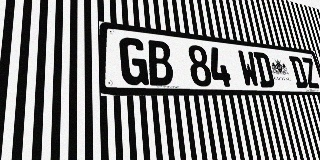4: (207, 46, 232, 87)
8: (187, 44, 213, 86)
B: (146, 40, 174, 86)
D: (253, 52, 275, 88), (289, 56, 309, 88)
G: (119, 36, 149, 85)
W: (237, 50, 260, 87)
Z: (301, 57, 320, 88)
